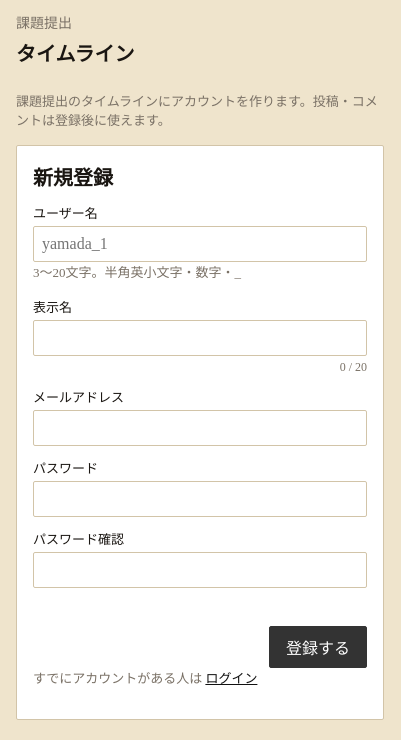
Test: SignupPage › shows the API error and does not succeed
The image size is (401, 740).
Type "yamada" into the field labelled "ユーザー名" at (200, 244), box [33,226,367,262]
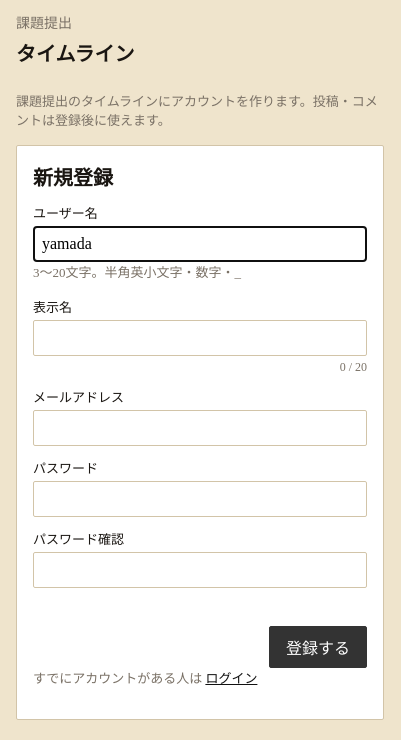
Type "山田" into the field labelled "表示名" at (200, 338), box [33,320,367,356]
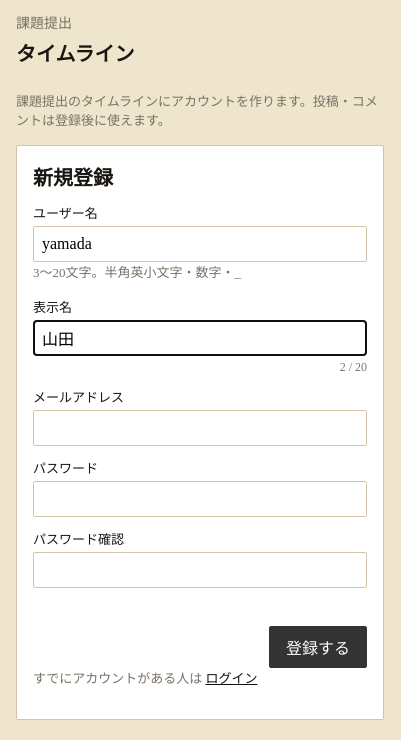
Type "yama@example.com" into the field labelled "メールアドレス" at (200, 428), box [33,410,367,446]
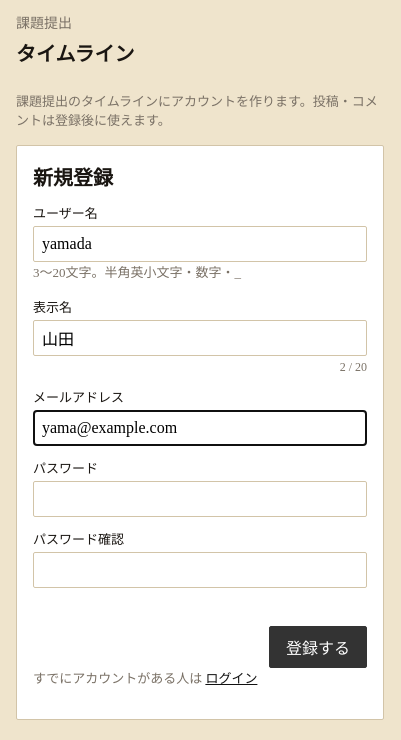
Type "password123" into the password field labelled "パスワード" at (200, 499), box [33,481,367,517]
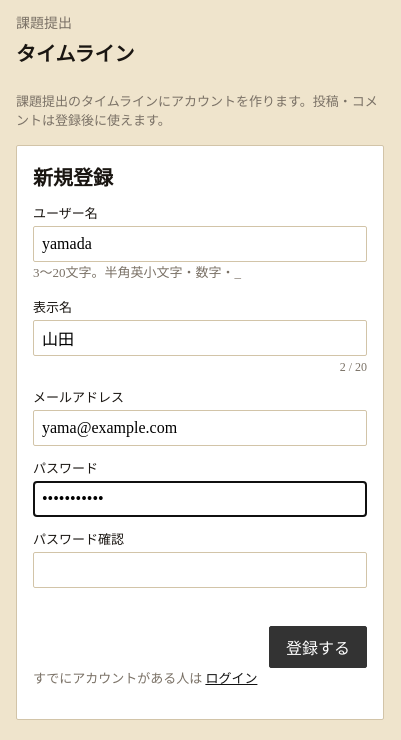
Type "password123" into the password field labelled "パスワード確認" at (200, 570), box [33,552,367,588]
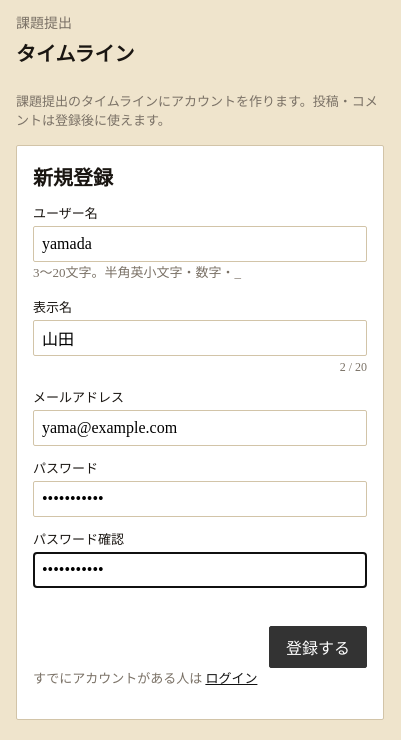
Click the button "登録する" at (318, 647), box [269,626,367,668]
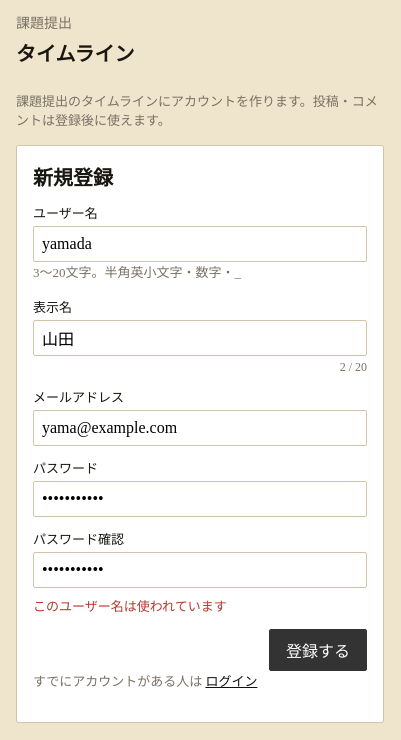
Result: the text "このユーザー名は使われています" is shown at [33,599,227,614]
